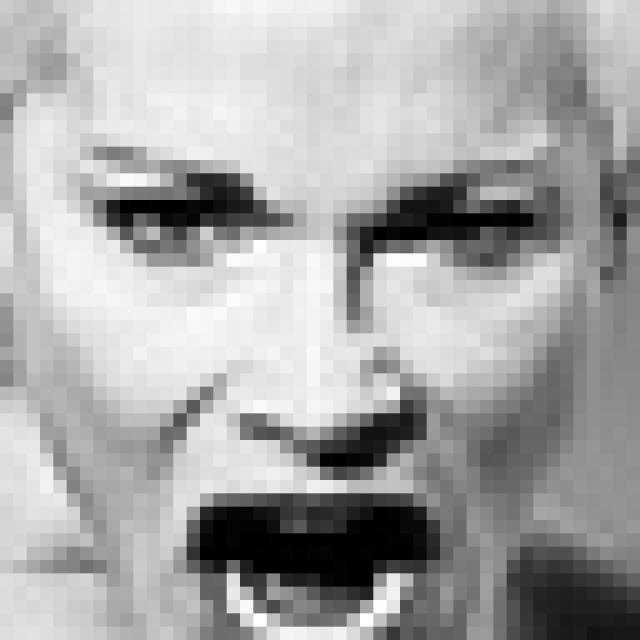angry: (66, 135, 552, 640)
